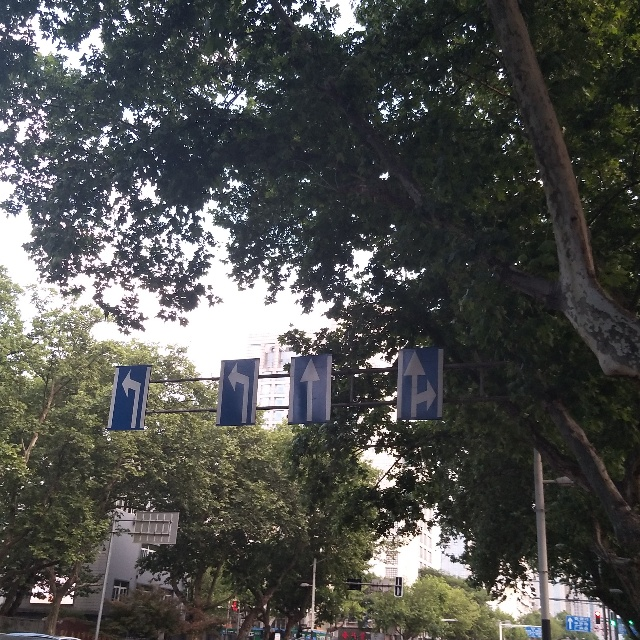left: (223, 359, 256, 426), (114, 367, 145, 431)
straight: (293, 357, 328, 424)
